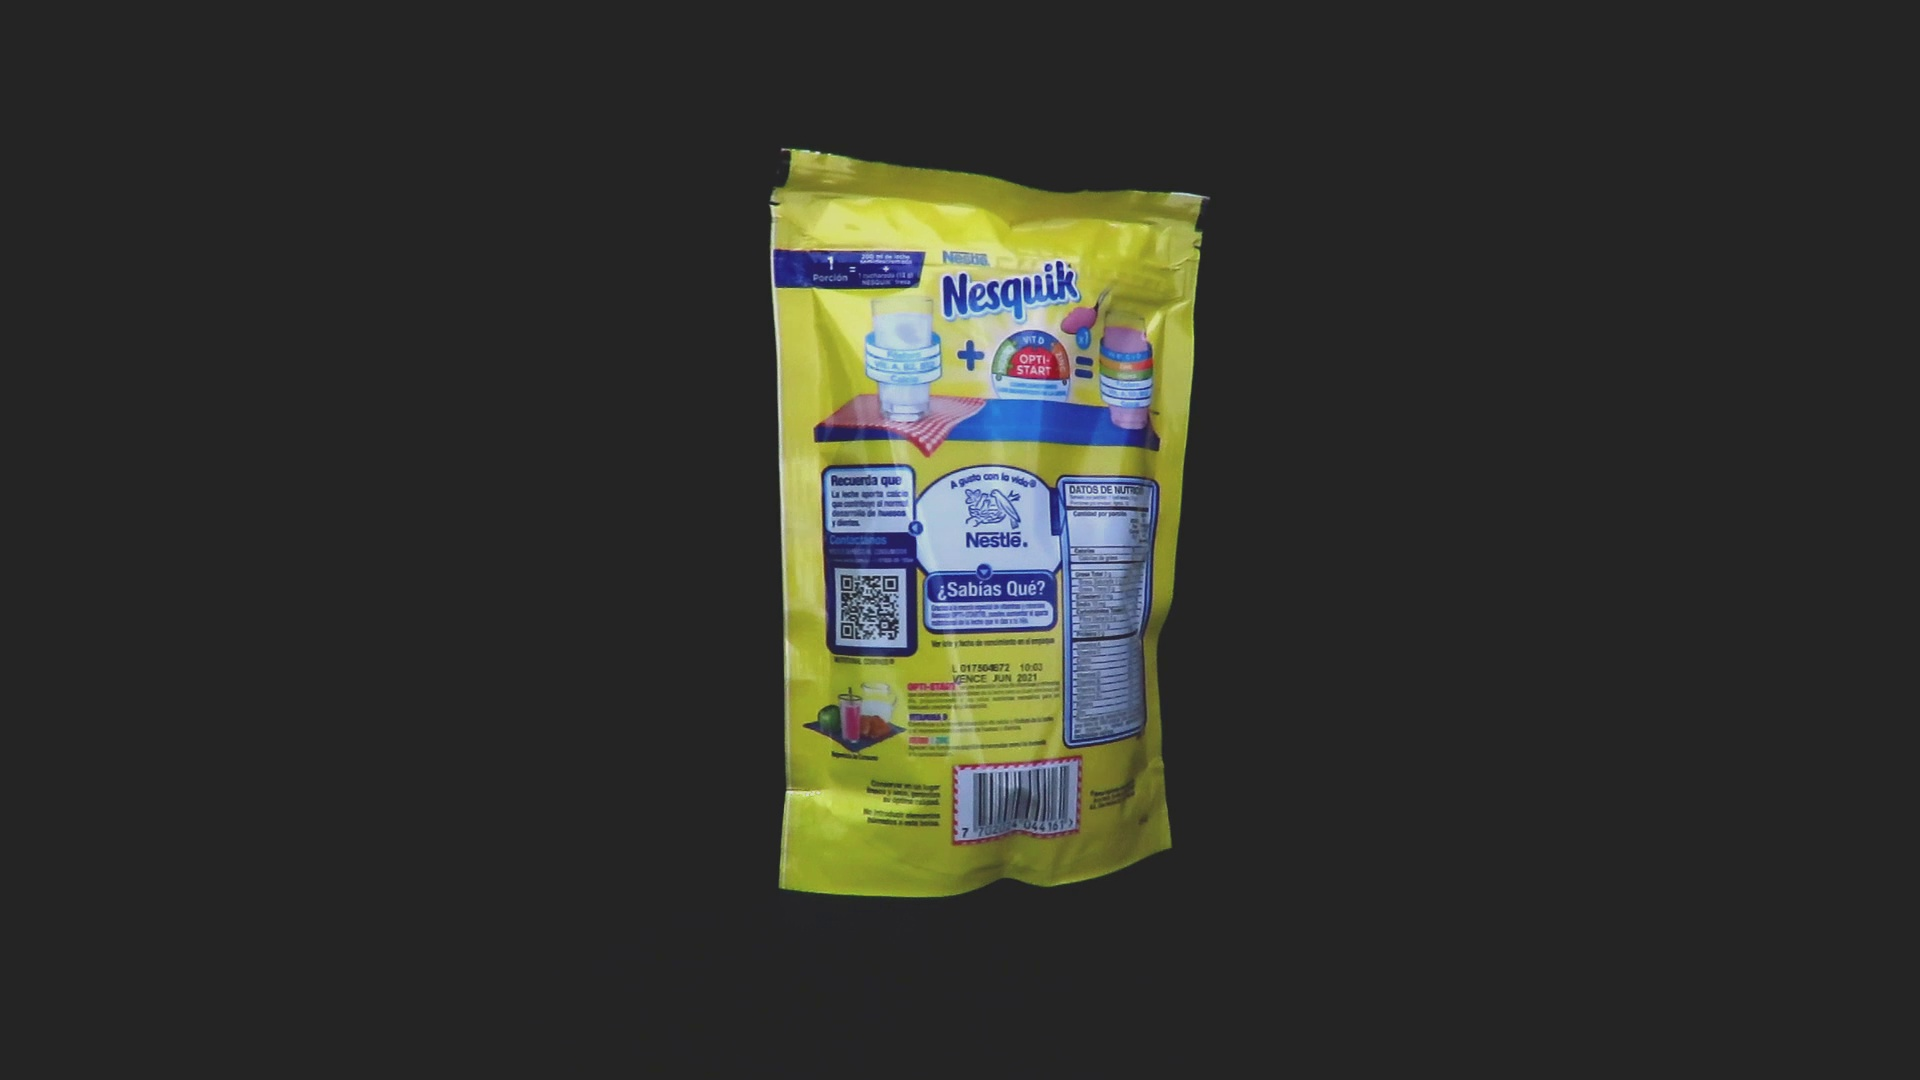COL0170305DYP20000: (765, 142, 1216, 905)
